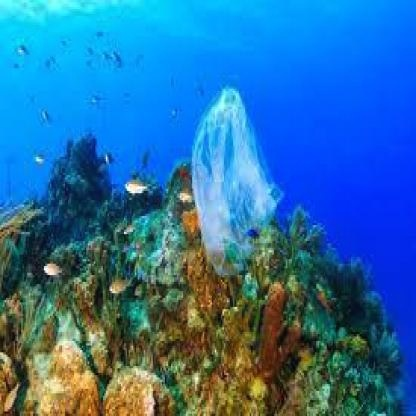pbag: (189, 84, 284, 280)
